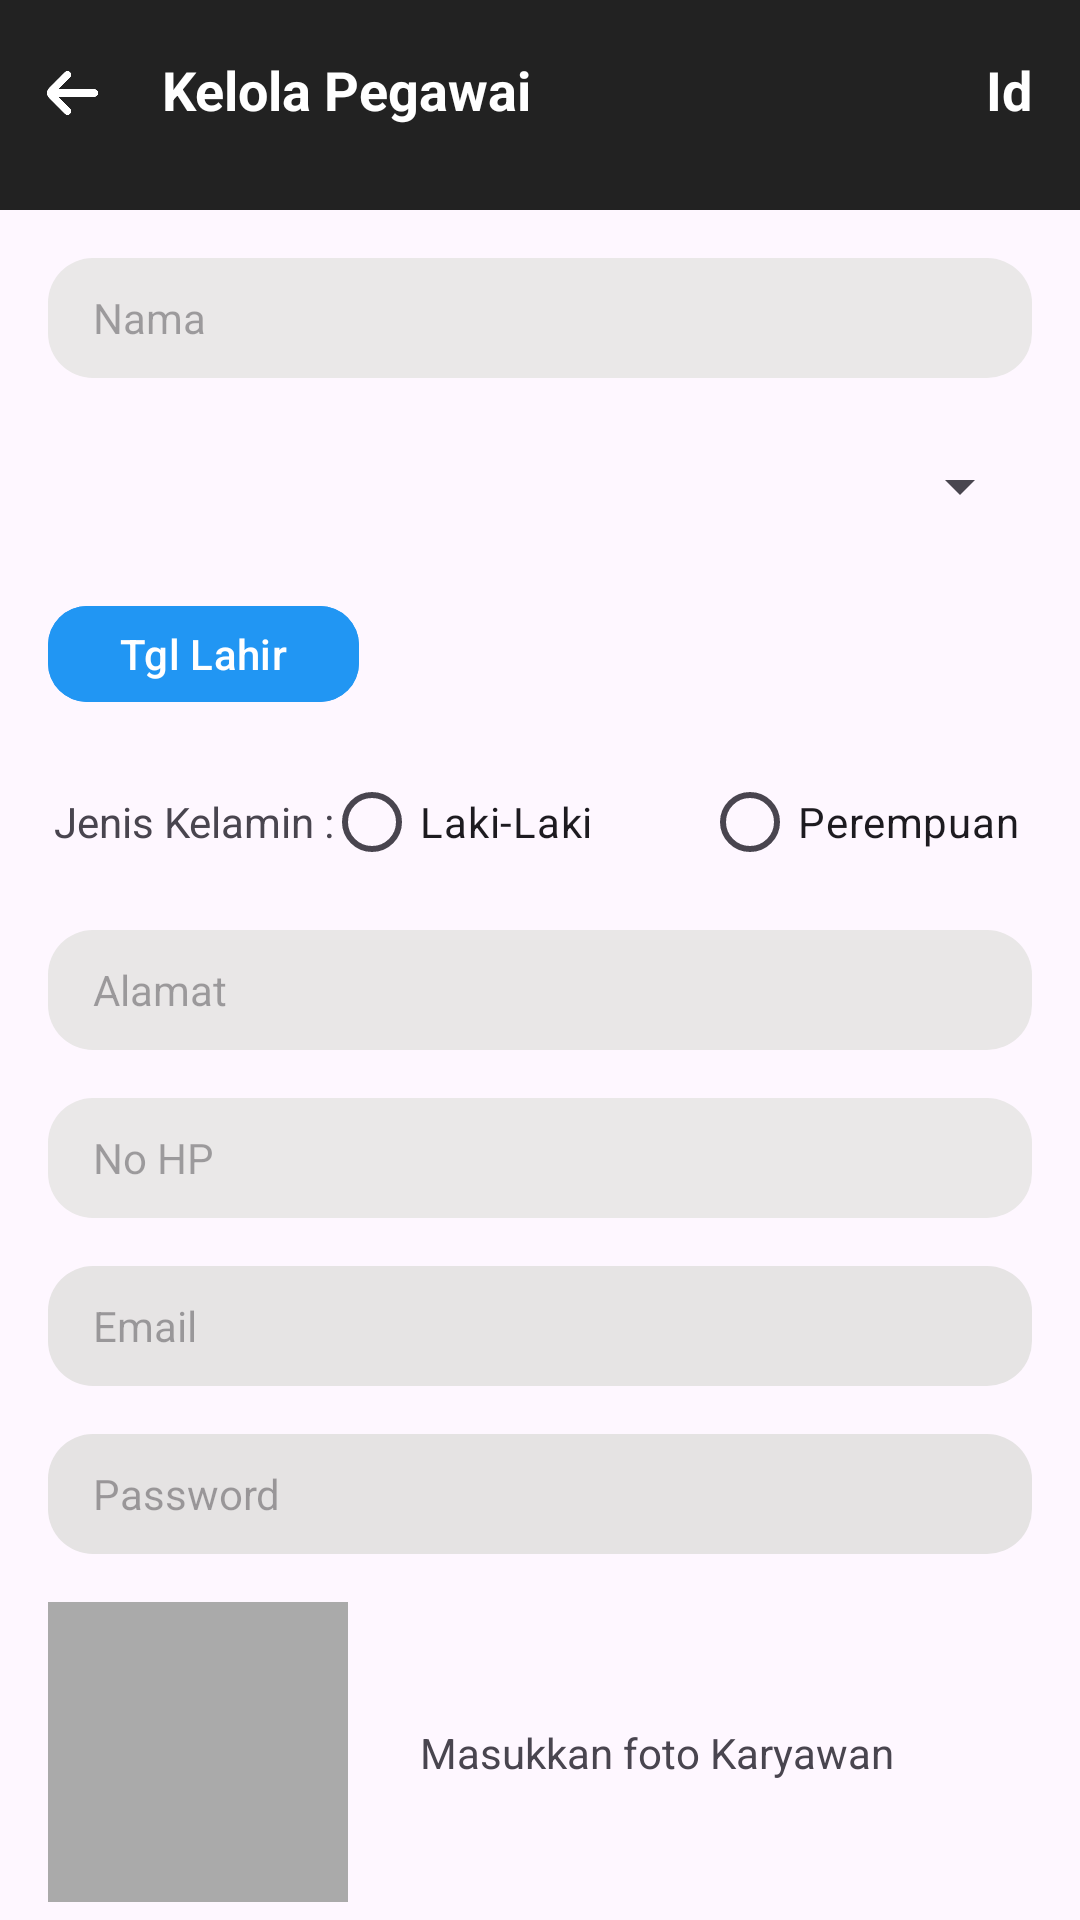

Named icons in this screenshot (1080w x 1920h) and their centers, (x=x, y=y):
arrow: (x=72, y=93)
